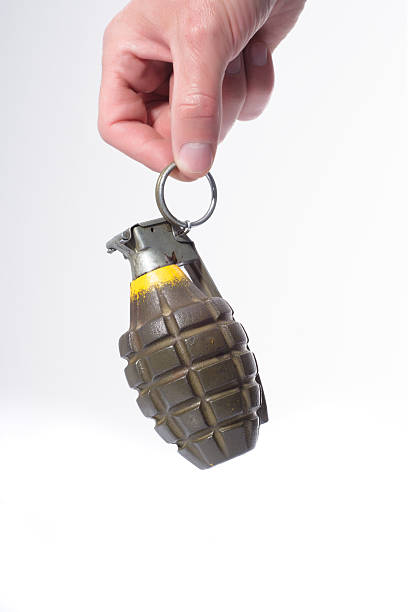e1: (102, 160, 271, 473)
